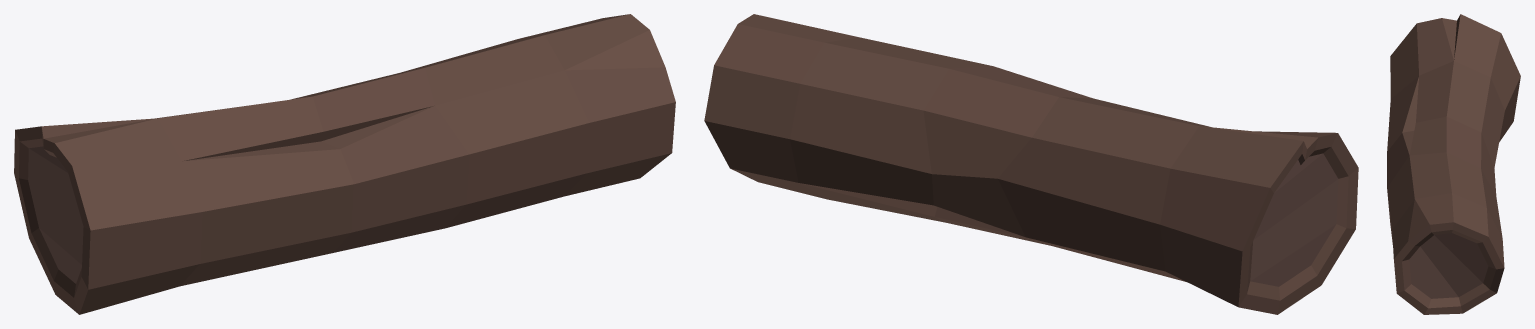
Rendered from Wood Log.glb.
3 renders of one model, left to right at view 1: azimuth 30°, elevation 25°; view 2: azimuth 150°, elevation 25°; view 3: azimuth 270°, elevation 25°, orthographic. The views are drawn at different scales.
Visible parts, largest first — view 1: Wood Log; view 2: Wood Log; view 3: Wood Log.
Part boxes in pixels (x1=…): Wood Log: x1=14, y1=14, x2=675, y2=314; Wood Log: x1=704, y1=14, x2=1358, y2=314; Wood Log: x1=1387, y1=14, x2=1520, y2=314.
Size of the model in its own units: 3.77 by 1.09 by 1.11.
